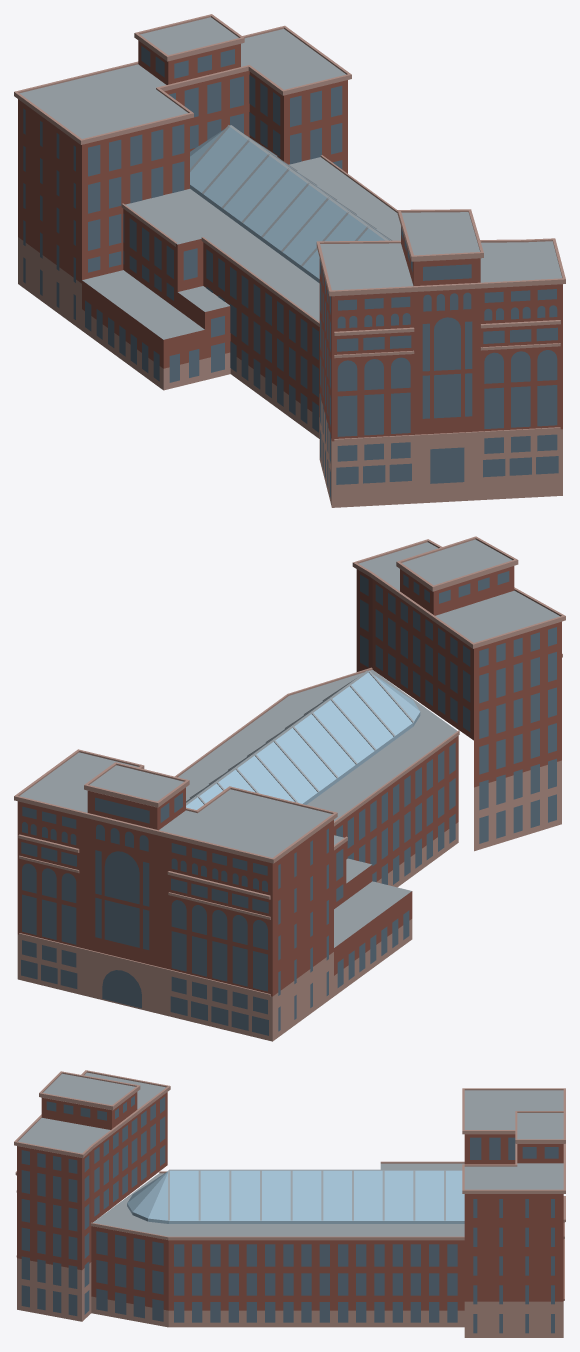
Rendered from cle-cleveland-arcade.glb.
3 views of the same model, one above another, from view 1: azimuth 30°, elevation 25°; view 2: azimuth 150°, elevation 25°; view 3: azimuth 270°, elevation 25° (orthographic). The views are drawn at different scales.
Parts seen in each view (by area): view 1: The Arcade; view 2: The Arcade; view 3: The Arcade.
Boxes of the visible parts, x1,y1,x2,y2 form: The Arcade: (14, 14, 565, 507); The Arcade: (14, 536, 565, 1041); The Arcade: (14, 1070, 565, 1337).
Bounding box in the file's own units: 54.9 × 48.05 × 125.
